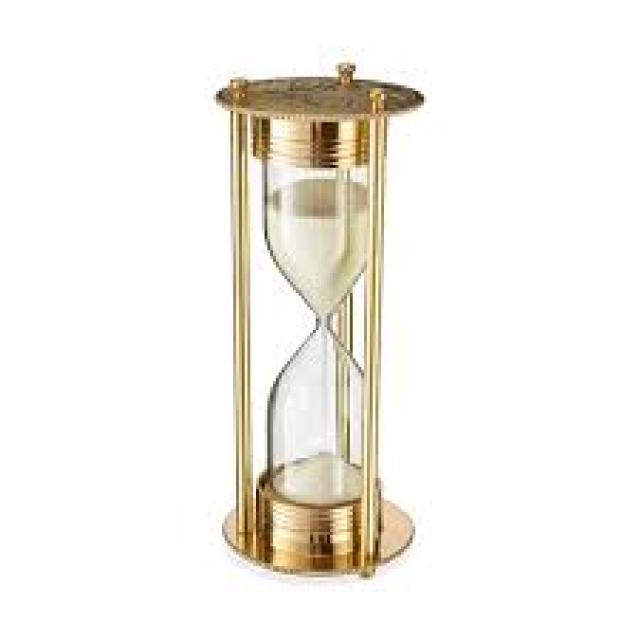clock: (203, 54, 461, 584)
